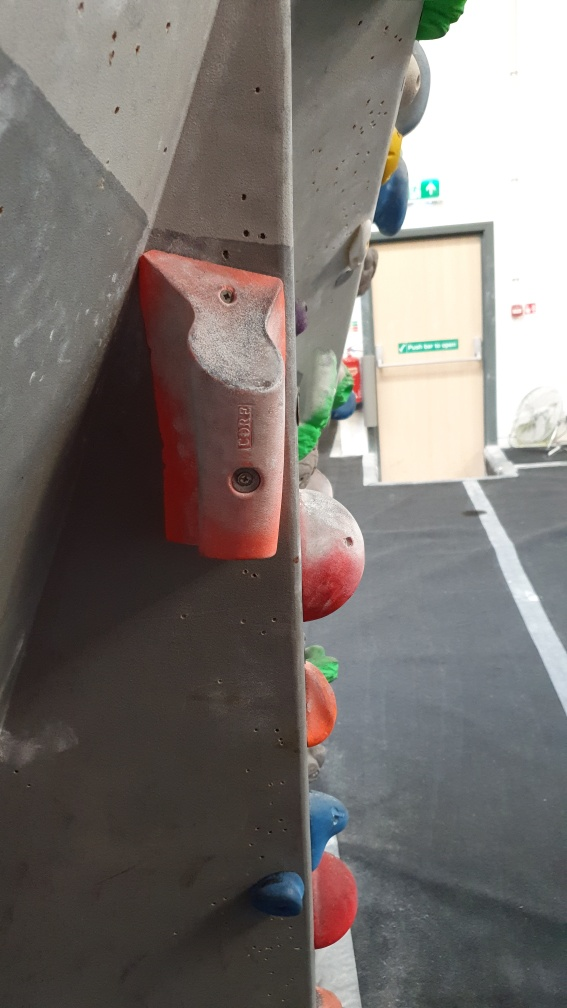Pinch: (132, 245, 288, 561)
Sloper: (298, 492, 370, 624), (311, 851, 362, 951)
